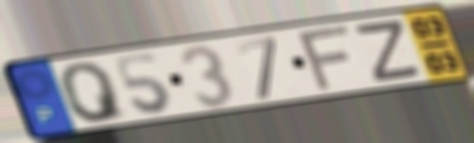3: (178, 39, 238, 111)
5: (110, 48, 177, 117)
7: (231, 34, 279, 101)
F: (295, 22, 355, 95)
Q: (56, 59, 132, 125)
Z: (353, 16, 426, 85)
